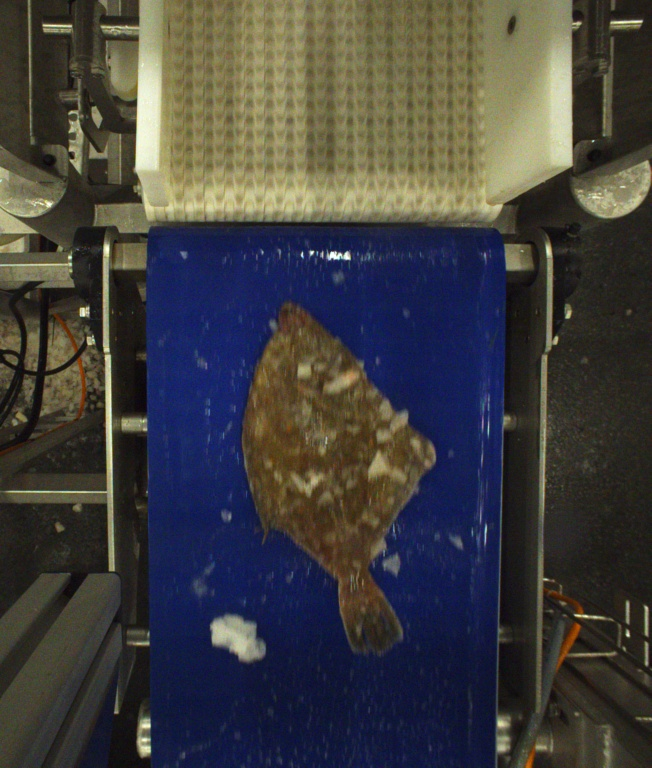PLE: (241, 303, 438, 654)
